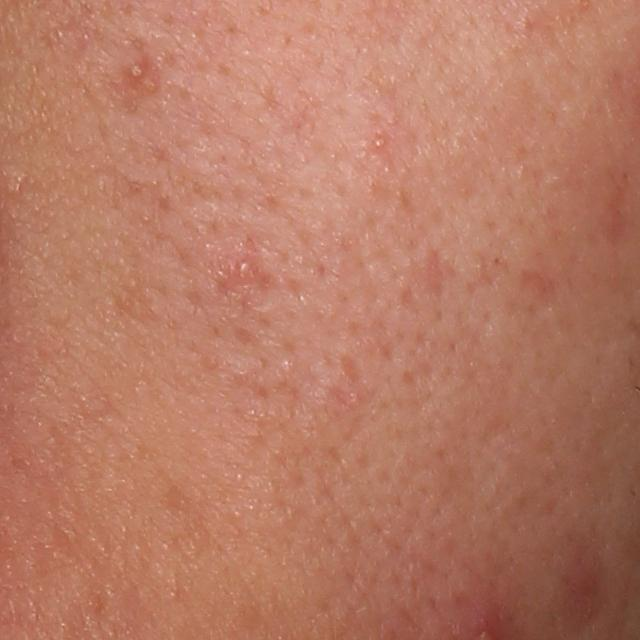atrophic_scar: (335, 352, 365, 382)
